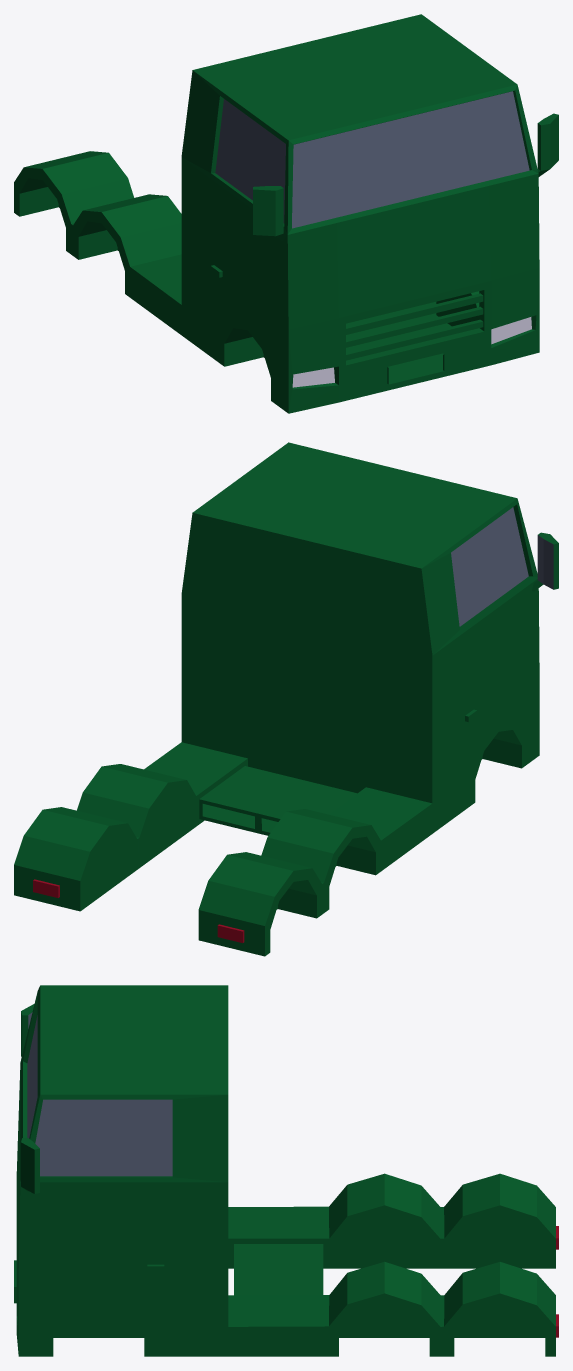
File: Truck.glb
3 renders of one model, top to bottom at view 1: azimuth 30°, elevation 25°; view 2: azimuth 150°, elevation 25°; view 3: azimuth 270°, elevation 25°, orthographic. The views are drawn at different scales.
Visible parts, largest first — view 1: Truck; view 2: Truck; view 3: Truck.
Boxes of the visible parts, box(x1,y1,x2,y2) form: Truck: box(14, 14, 558, 413); Truck: box(14, 442, 558, 956); Truck: box(14, 985, 558, 1356).
Size of the model in its own units: 341 by 280 by 538.
